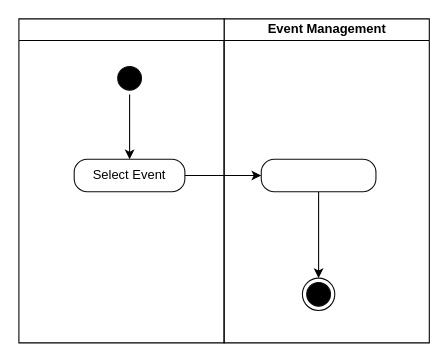
The diagram is 448 pixels wide and 362 high, and some of its shapes have lost their labels. The box of each missing label's shape, as (x1, y1, x2, y2) in pixels:
Displays Event: (260, 158, 376, 192)
User: (18, 18, 224, 343)
